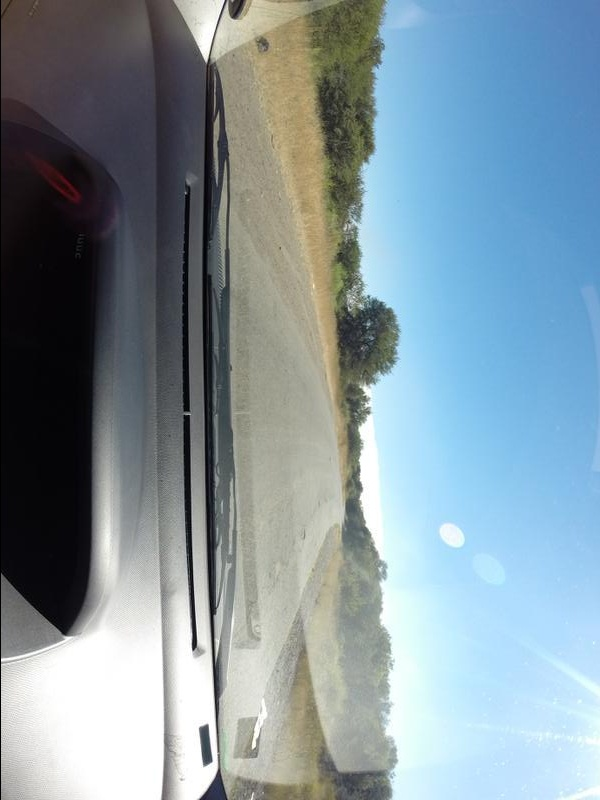pothole: (296, 522, 310, 548)
